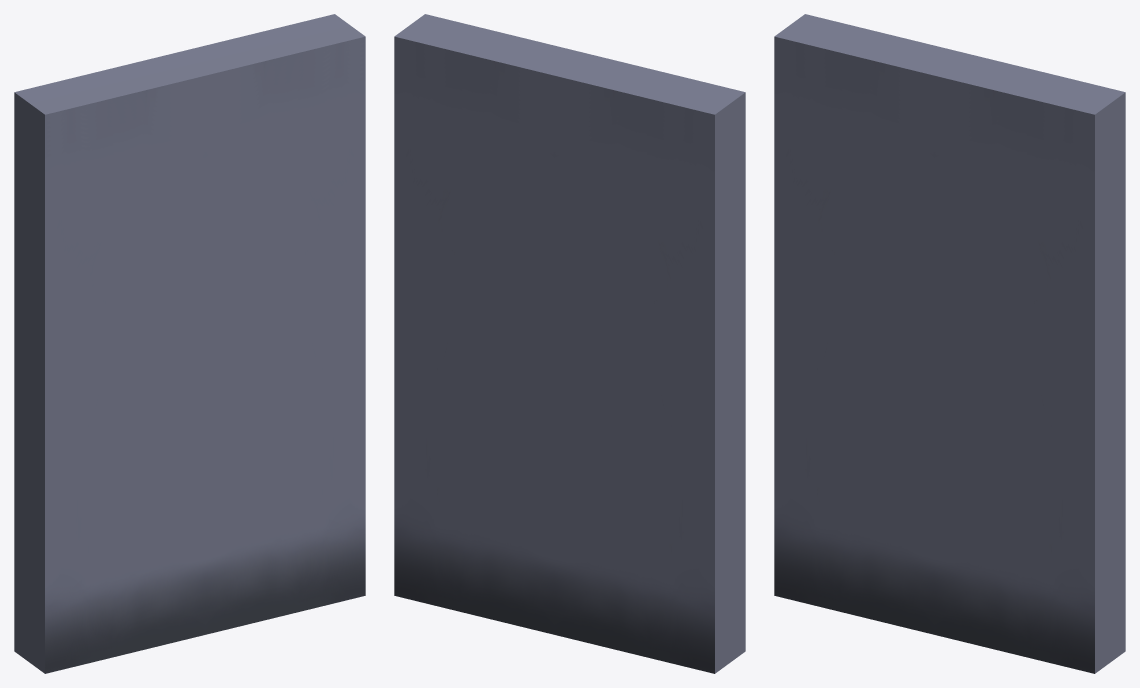
The model's file is Basic_Wall.fbx.
3 renders of one model, left to right at view 1: azimuth 30°, elevation 25°; view 2: azimuth 150°, elevation 25°; view 3: azimuth 330°, elevation 25°, orthographic.
Visible parts, largest first — view 1: Arch.041; view 2: Arch.041; view 3: Arch.041.
Boxes of the visible parts, <box> form: Arch.041: <box>14,14,365,673</box>; Arch.041: <box>394,14,745,673</box>; Arch.041: <box>774,14,1125,673</box>.
Size of the model in its own units: 600 by 1000 by 100.
